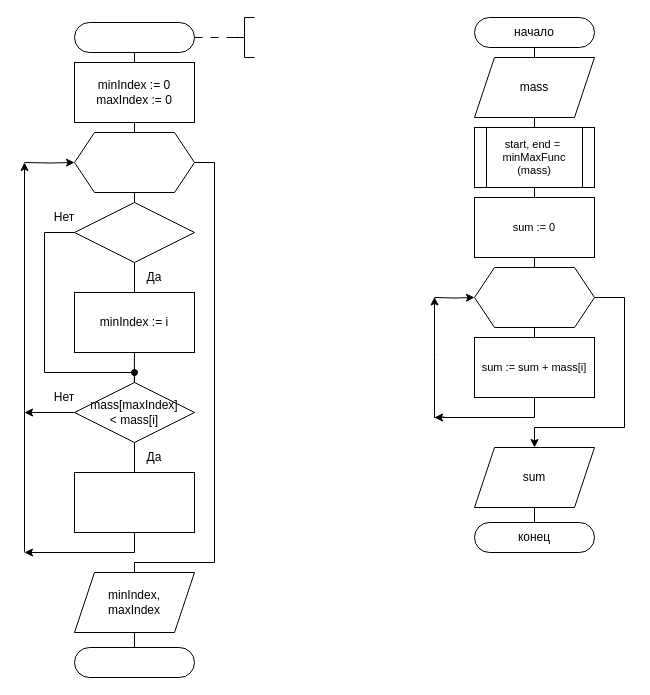
Image size: 650x695. Some labels were removed from this diagram. The centre of each missing label's shape, as x and y in pixels:
"i := 1, i ≤ n-1 , i:=i+1" goes at pixel 134 162.
"i := start, i ≤ end , i:=i+1" goes at pixel 534 297.
"mass[minIndex] > mass[i]" goes at pixel 134 232.
"maxIndex := i" goes at pixel 134 502.
"minMaxFunc(mass)" goes at pixel 244 37.
